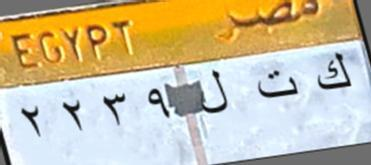2: (61, 92, 88, 136), (18, 100, 46, 140)
3: (100, 87, 129, 130)
9: (145, 88, 172, 124)
kaaf: (311, 49, 356, 96)
laam: (191, 65, 231, 123)
taa: (255, 70, 301, 105)
